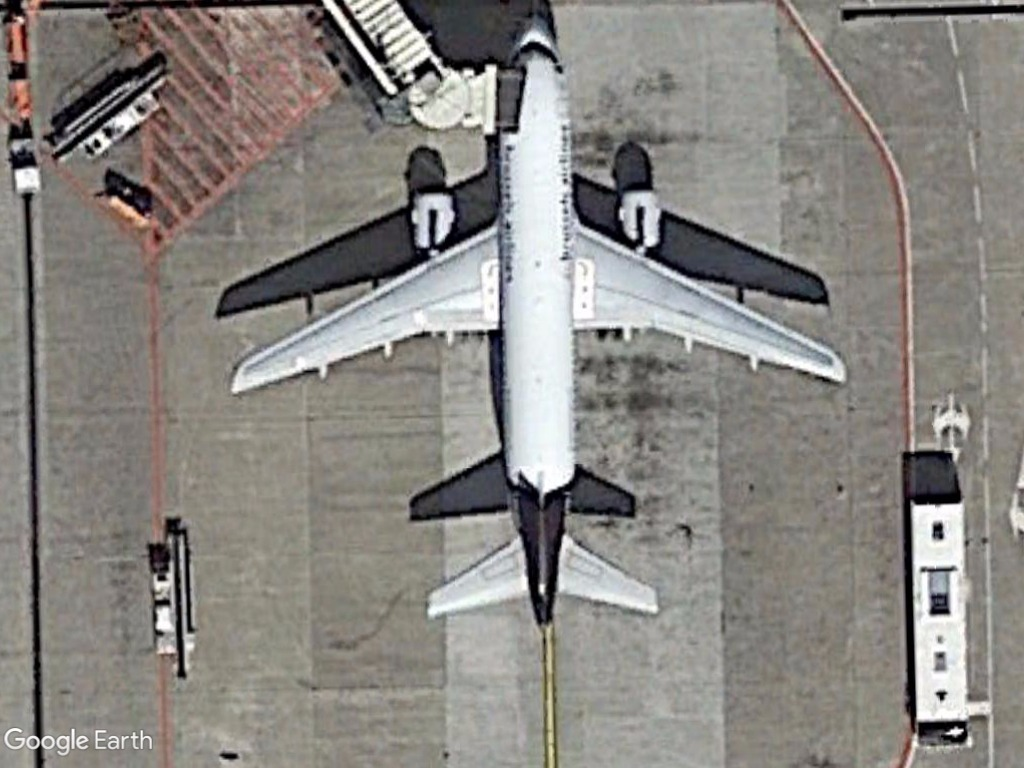airliner: (222, 14, 852, 632)
bus: (901, 492, 975, 753)
